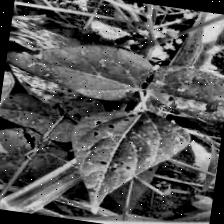ALS: (49, 104, 194, 222), (3, 35, 148, 105), (148, 60, 224, 124), (0, 69, 24, 156)
